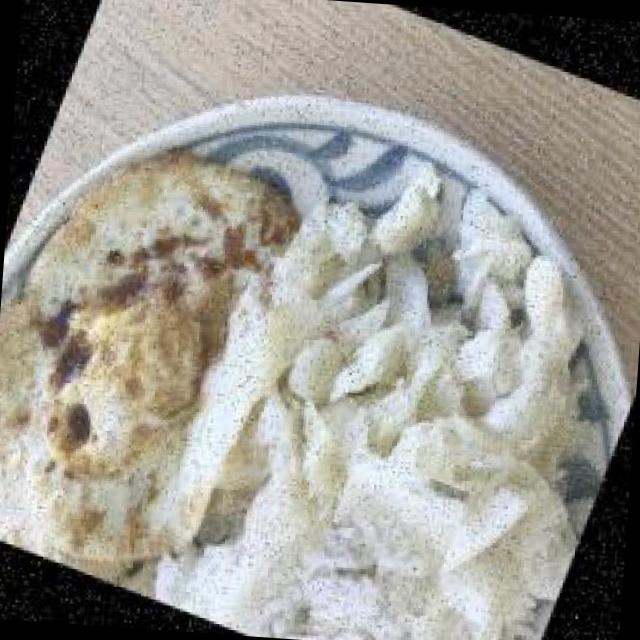chinese_cabbage: (216, 188, 612, 606)
fried_eggs: (0, 107, 331, 601)
rice: (237, 472, 498, 640)
